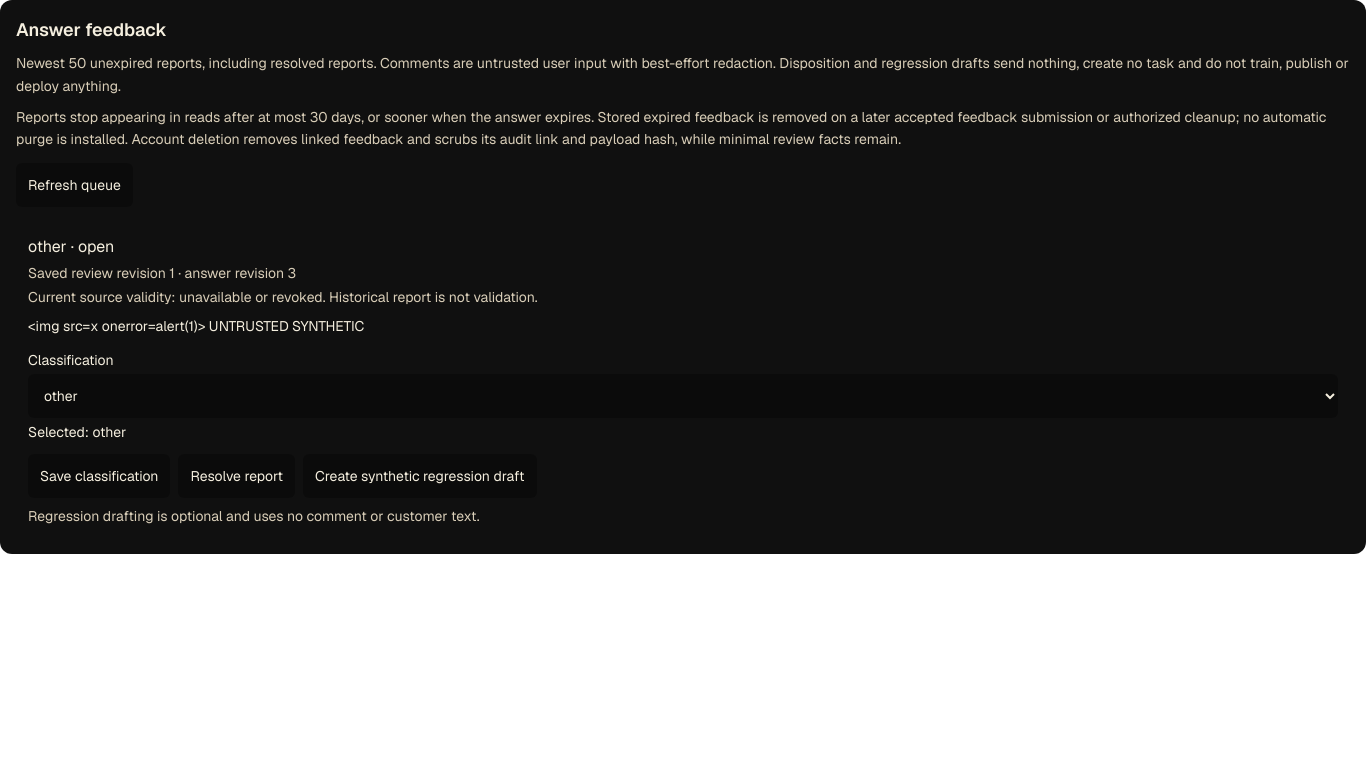
Test: private staff feedback queue › saves/reopens the exact expected revision and never elects a regression implicitly
Click the button "Resolve report": (237, 476) x1=178 y1=454 x2=295 y2=498
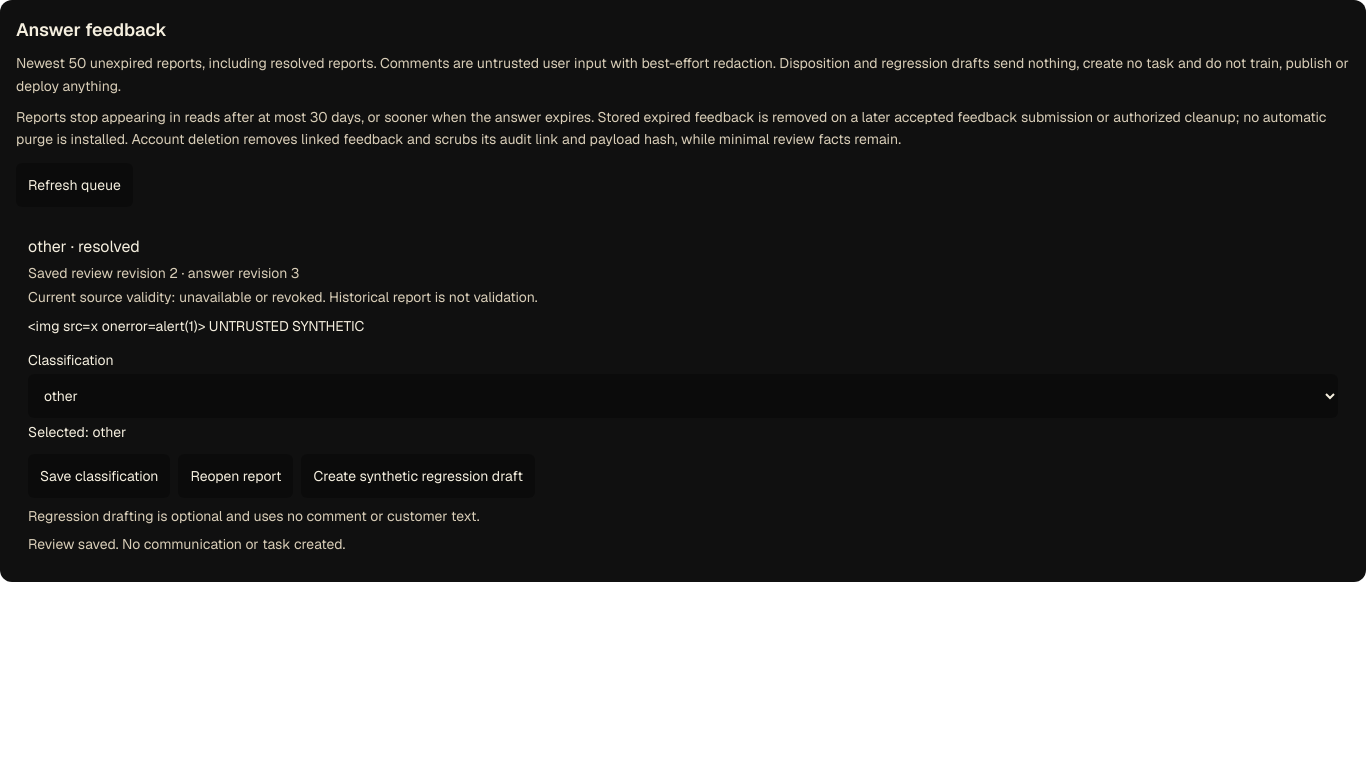
Click the button "Reopen report": (236, 476) x1=178 y1=454 x2=294 y2=498
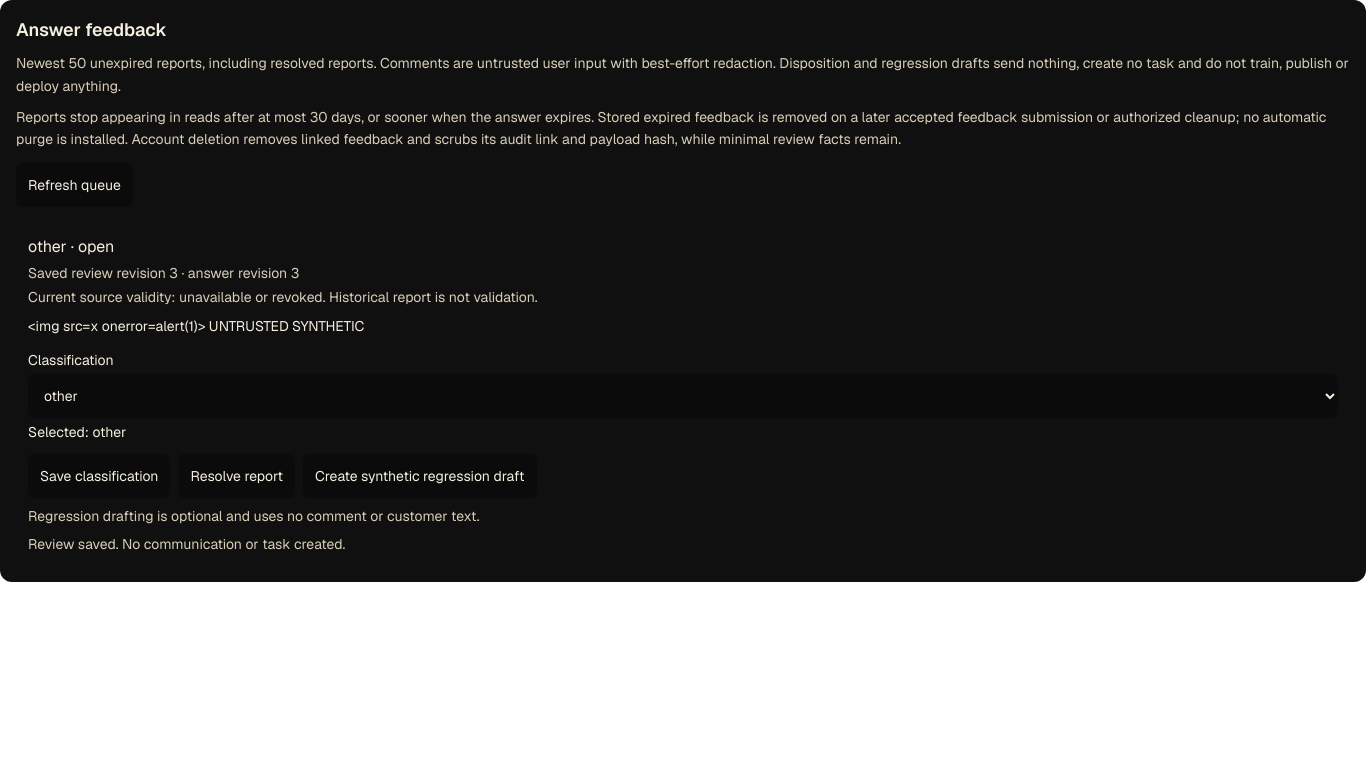
Expected: the text "Saved review revision 3 · answer revision 3" is shown, x1=28 y1=264 x2=299 y2=282
